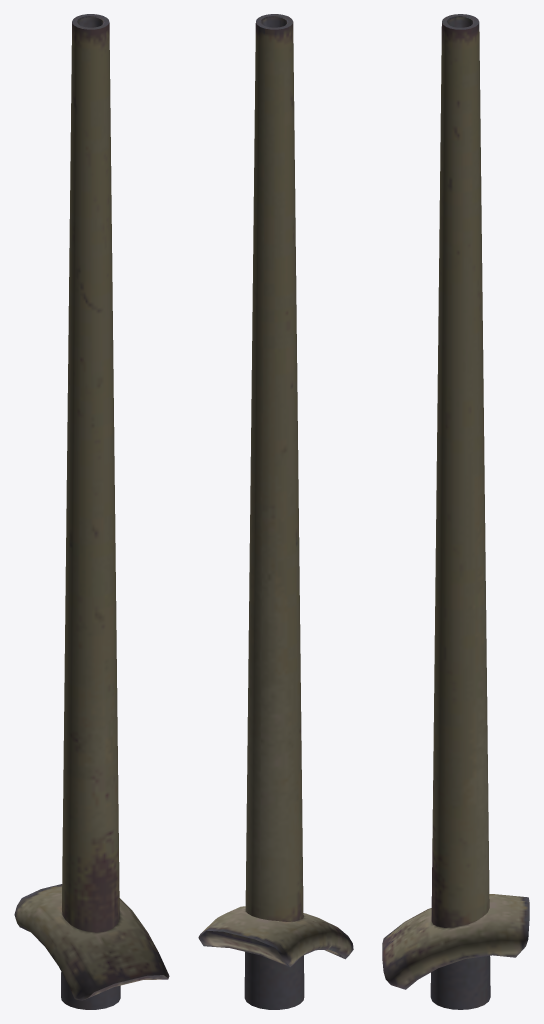
The model's file is Gun_03.glb.
3 renders of one model, left to right at view 1: azimuth 30°, elevation 25°; view 2: azimuth 150°, elevation 25°; view 3: azimuth 270°, elevation 25°, orthographic.
Parts seen in each view (by area): view 1: set_0_group_0; view 2: set_0_group_0; view 3: set_0_group_0.
Boxes of the visible parts, box(x1,y1,x2,y2) form: set_0_group_0: box(14, 14, 169, 1009); set_0_group_0: box(198, 14, 353, 1009); set_0_group_0: box(382, 14, 529, 1009).
Size of the model in its own units: 0.2979 by 3.02 by 0.4138.
1 material, 1 textured.
